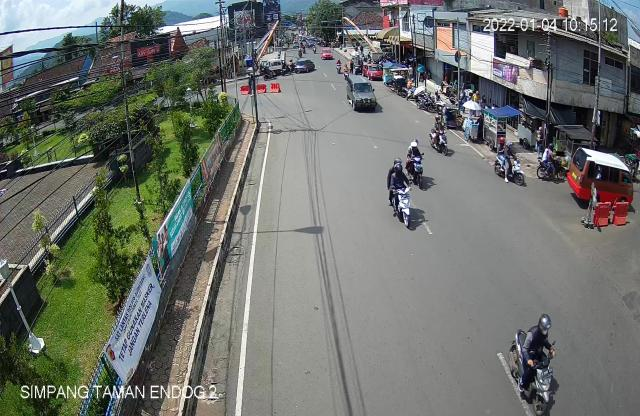Mobil: (565, 146, 638, 214), (494, 137, 527, 189), (345, 71, 380, 116)
Motor: (508, 310, 568, 416), (383, 157, 415, 234), (428, 113, 452, 160), (406, 140, 428, 189)
